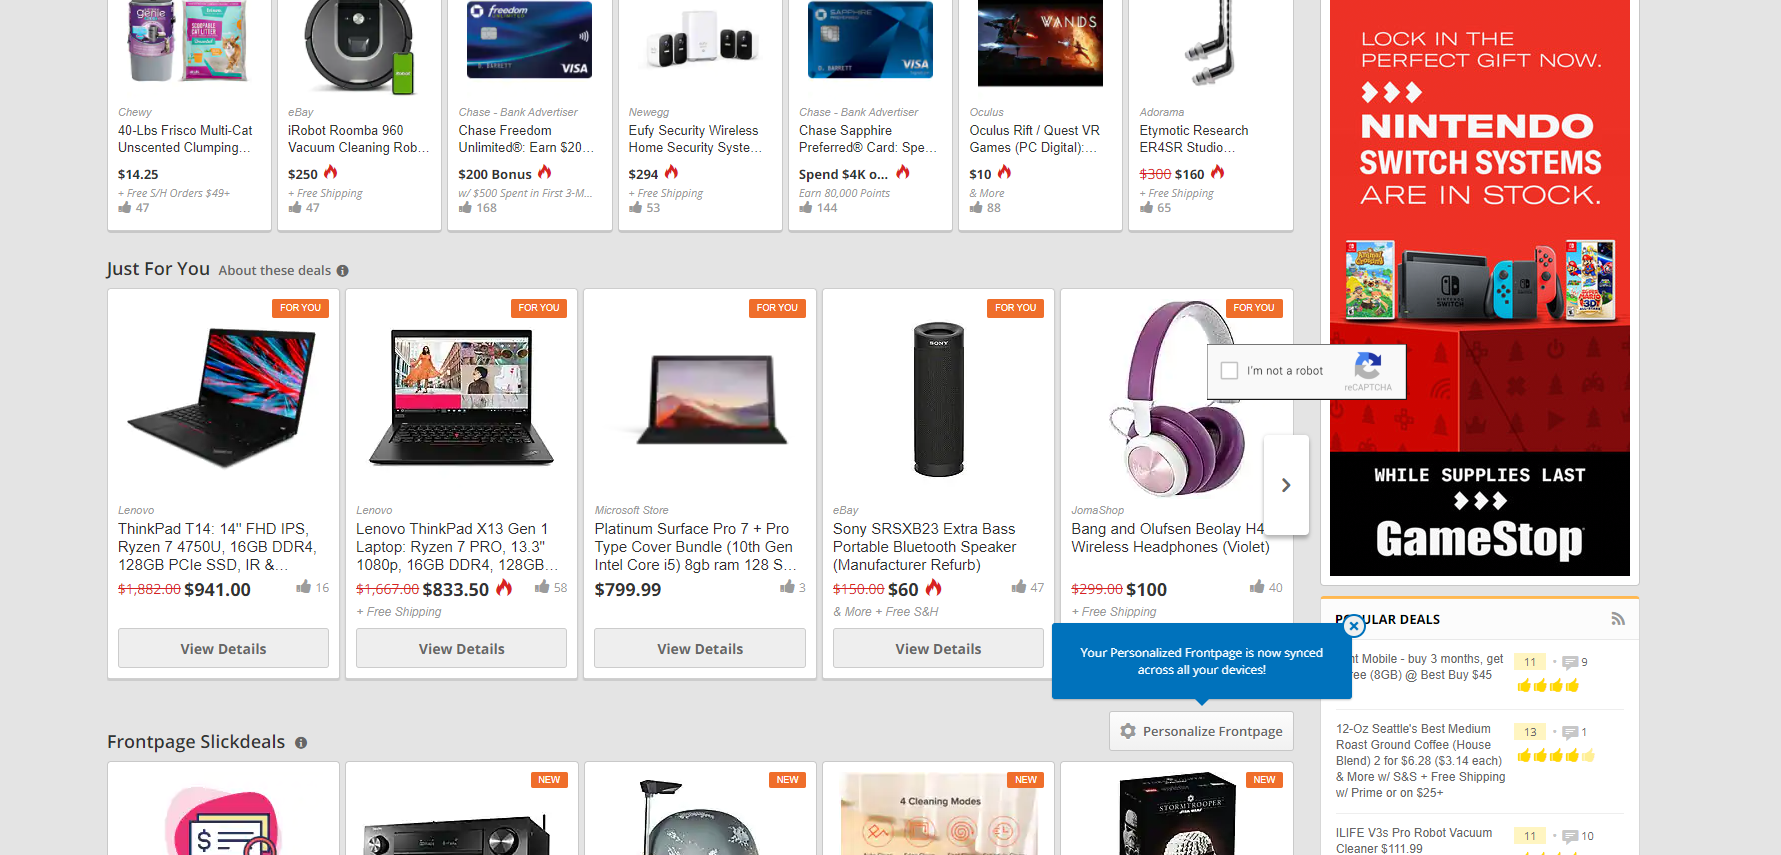captcha: (1207, 345, 1402, 397)
